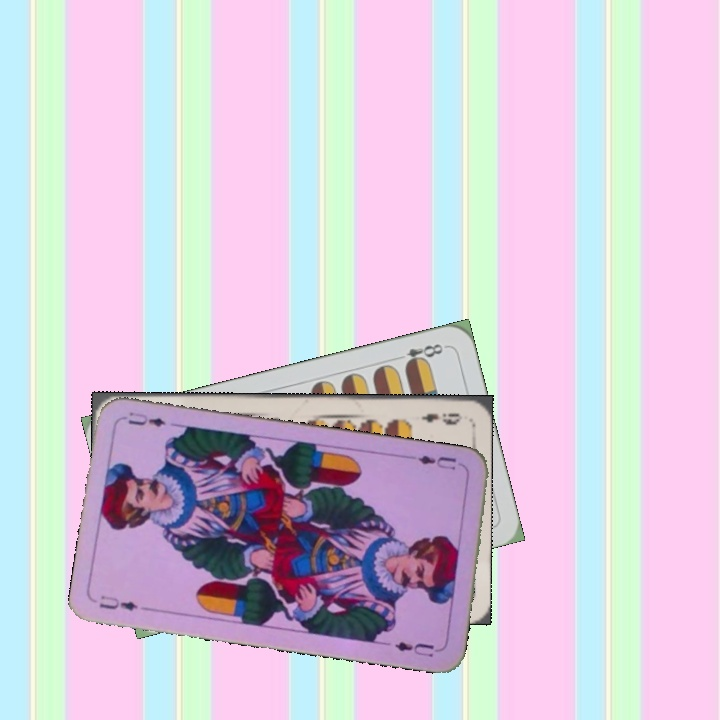E8: (390, 339, 449, 370)
E9: (417, 409, 465, 427)
EU: (407, 451, 459, 473), (95, 591, 140, 613)
